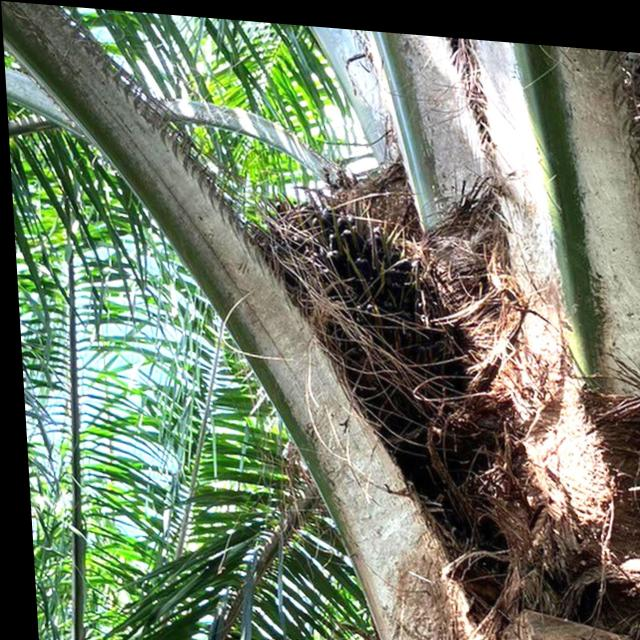almost: (237, 163, 447, 423)
